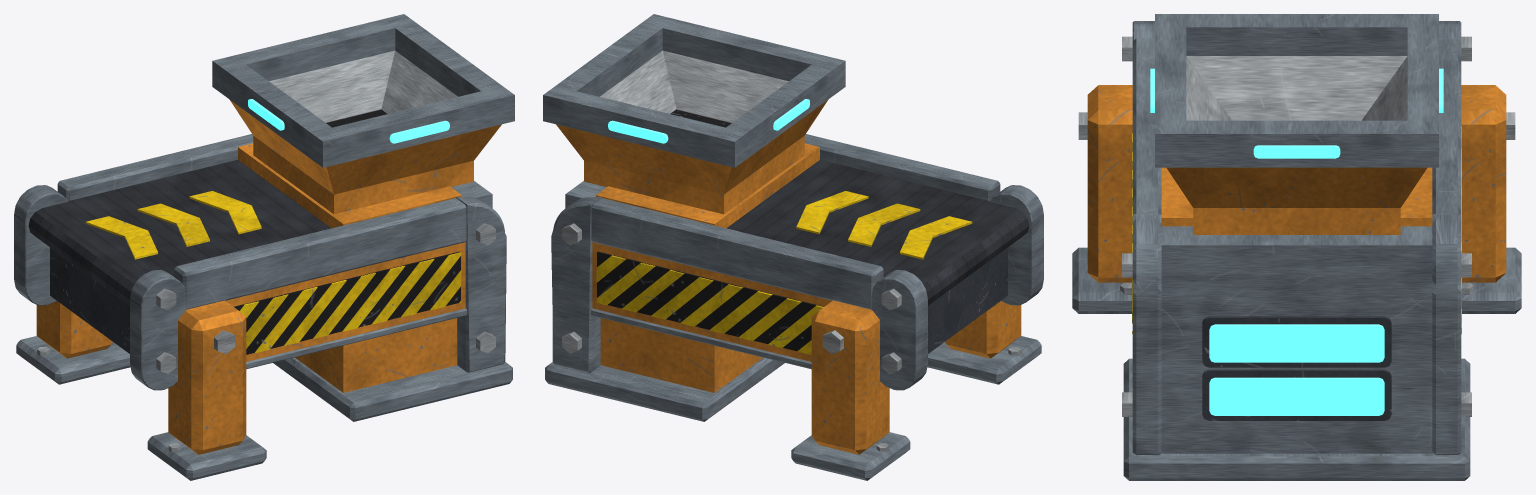
Rendered from conveyor_end.glb.
3 renders of one model, left to right at view 1: azimuth 30°, elevation 25°; view 2: azimuth 150°, elevation 25°; view 3: azimuth 270°, elevation 25°, orthographic. The views are drawn at different scales.
Visible parts, largest first — view 1: ConveyorEnd_SteelGrey, ConveyorEnd_Orange, ConveyorEnd_Belt, ConveyorEnd_Yellow, ConveyorEnd_SteelLight, ConveyorEnd_Black, ConveyorEnd_DarkGrey, ConveyorEnd_Cyan; view 2: ConveyorEnd_SteelGrey, ConveyorEnd_Orange, ConveyorEnd_Belt, ConveyorEnd_Yellow, ConveyorEnd_SteelLight, ConveyorEnd_Black, ConveyorEnd_DarkGrey, ConveyorEnd_Cyan; view 3: ConveyorEnd_SteelGrey, ConveyorEnd_Orange, ConveyorEnd_SteelLight, ConveyorEnd_Cyan, ConveyorEnd_DarkGrey.
Boxes of the visible parts, x1,y1,x2,y2 form: ConveyorEnd_SteelGrey: [14, 14, 514, 480]; ConveyorEnd_Orange: [36, 99, 501, 454]; ConveyorEnd_Belt: [28, 160, 331, 305]; ConveyorEnd_Yellow: [85, 191, 461, 352]; ConveyorEnd_SteelLight: [37, 50, 495, 452]; ConveyorEnd_Black: [234, 109, 460, 354]; ConveyorEnd_DarkGrey: [50, 247, 129, 353]; ConveyorEnd_Cyan: [248, 99, 449, 143]; ConveyorEnd_SteelGrey: [543, 14, 1043, 480]; ConveyorEnd_Orange: [556, 99, 1021, 454]; ConveyorEnd_Belt: [726, 160, 1029, 305]; ConveyorEnd_Yellow: [596, 191, 972, 355]; ConveyorEnd_SteelLight: [562, 50, 1020, 452]; ConveyorEnd_Black: [597, 109, 823, 351]; ConveyorEnd_DarkGrey: [928, 247, 1007, 353]; ConveyorEnd_Cyan: [608, 99, 809, 143]; ConveyorEnd_SteelGrey: [1072, 14, 1521, 480]; ConveyorEnd_Orange: [1087, 85, 1506, 282]; ConveyorEnd_SteelLight: [1078, 36, 1515, 416]; ConveyorEnd_Cyan: [1150, 68, 1443, 415]; ConveyorEnd_DarkGrey: [1202, 316, 1391, 420].
Bounding box in the file's own units: 6.33 × 4.36 × 4.98.
8 materials, 7 textured.
